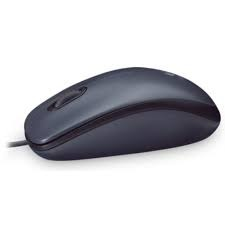mouse: (22, 62, 223, 168)
